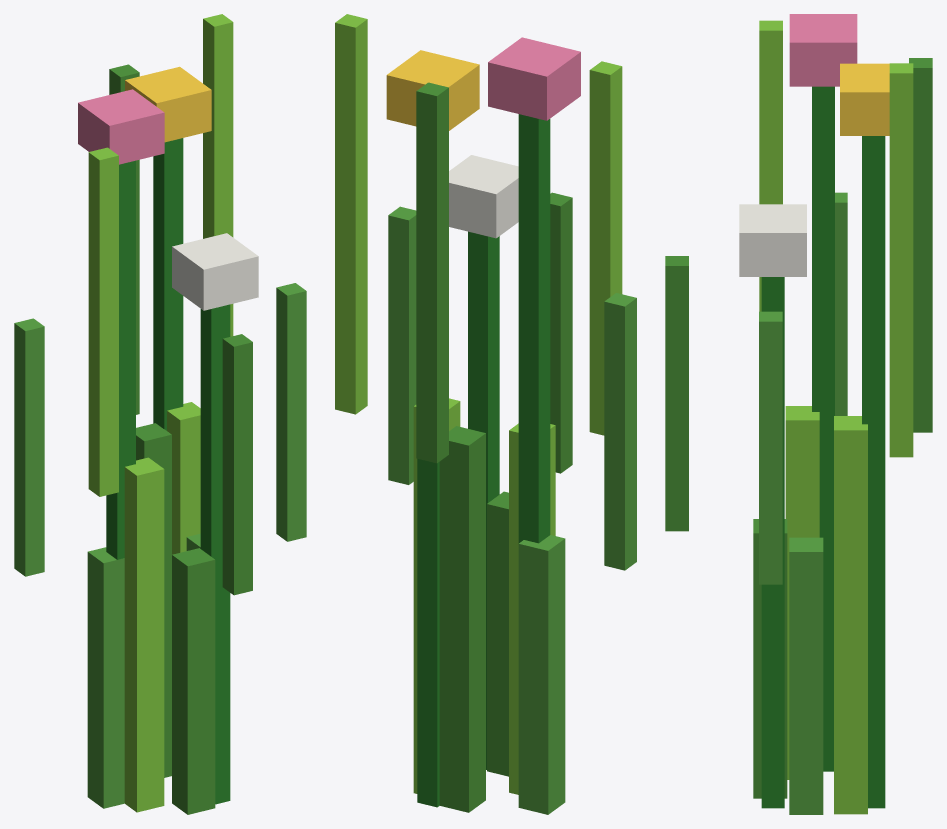
Rendered from meadow_flowers.glb.
3 renders of one model, left to right at view 1: azimuth 30°, elevation 25°; view 2: azimuth 150°, elevation 25°; view 3: azimuth 270°, elevation 25°, orthographic. The views are drawn at different scales.
Parts seen in each view (by area): view 1: grass; view 2: grass; view 3: grass.
Boxes of the visible parts, x1,y1,x2,y2 form: grass: (14, 14, 306, 814); grass: (335, 14, 636, 814); grass: (665, 14, 932, 814).
Bounding box in the file's own units: 0.3192 × 0.8753 × 0.2764.
